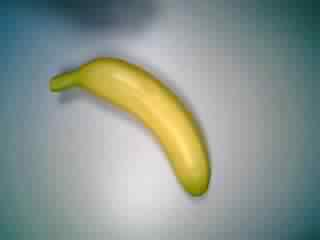banana: (47, 51, 216, 199)
